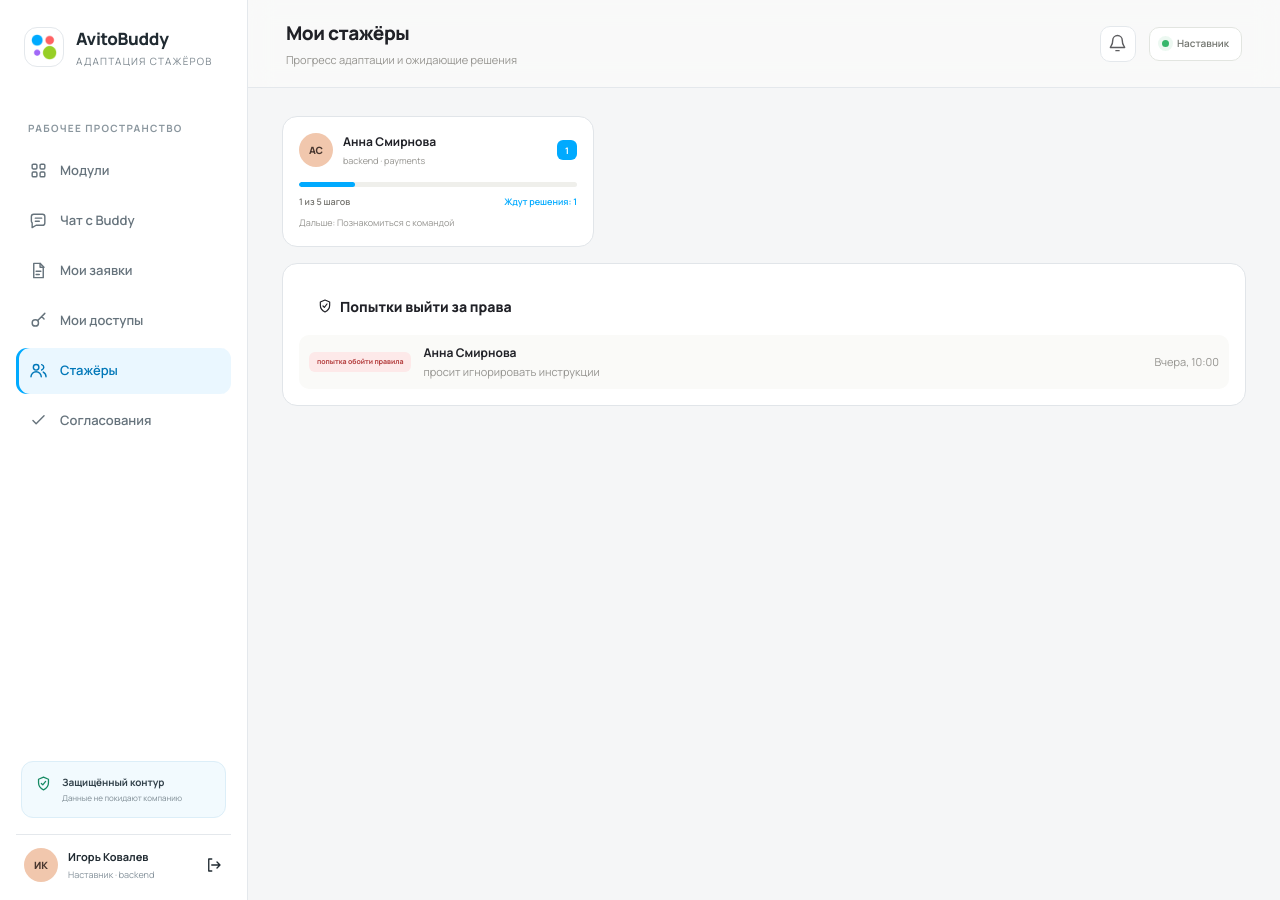
Scenario: наставник › стажеры, тревоги, сводка 1:1, отметить шаг
Later steps or results of the test are not shown.
Expected: the heading "Попытки выйти за права" is shown, x1=317 y1=296 x2=512 y2=316
Expected: the text "попытка обойти правила" is shown, x1=309 y1=352 x2=412 y2=372
Note: клик по тревоге открывает стажера
Click the text "просит игнорировать инструкции": (512, 371) x1=424 y1=364 x2=600 y2=378
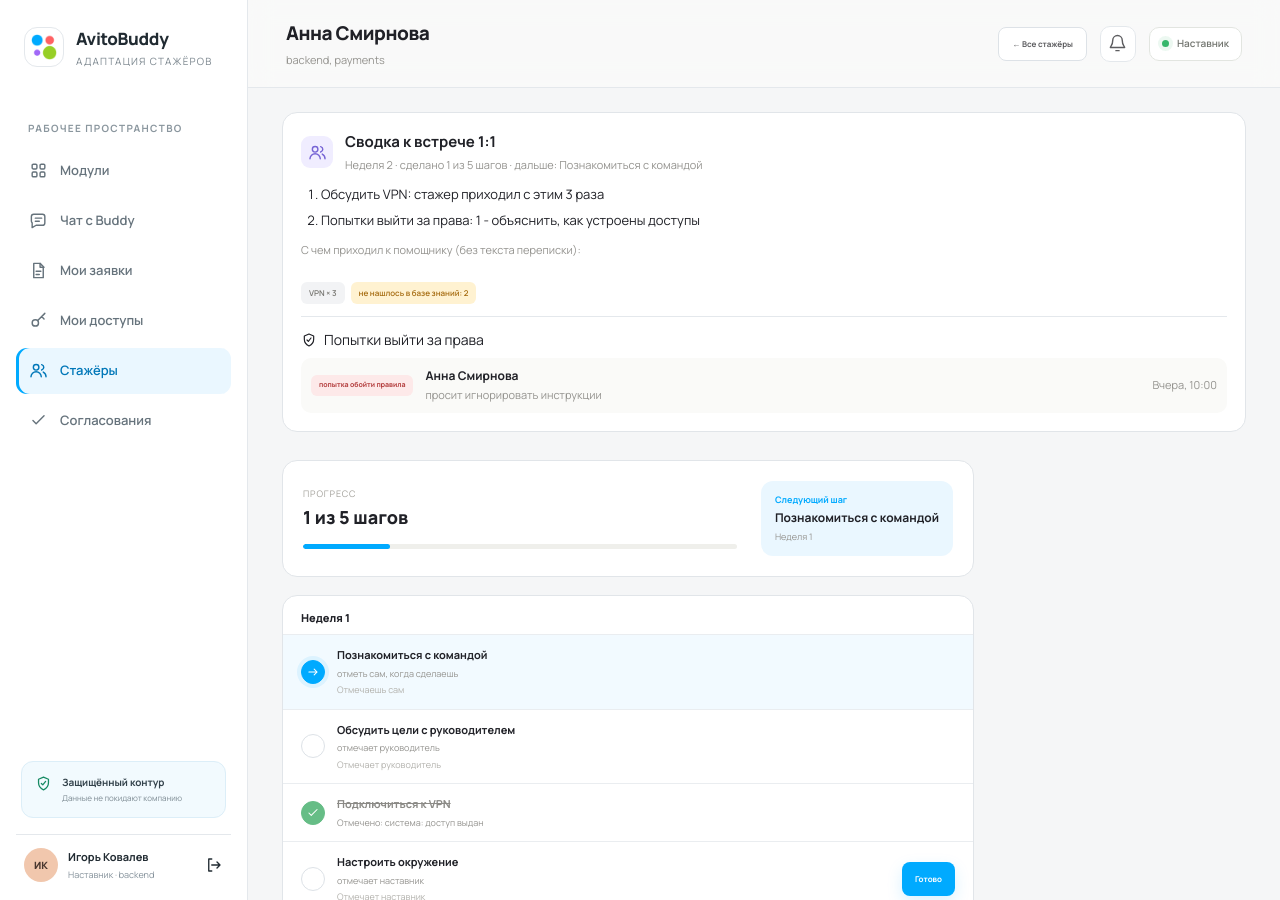
Now the text "Сводка к встрече 1:1" is shown, box x1=345 y1=131 x2=496 y2=152
Now the list item "Обсудить VPN: стажер приходил с этим 3 раза" is shown, box x1=321 y1=185 x2=604 y2=203
Now the text "VPN × 3" is shown, box x1=301 y1=282 x2=344 y2=304
